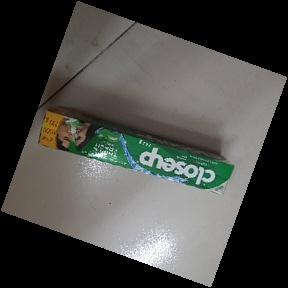CloseUp Xanh: (32, 106, 236, 201)
